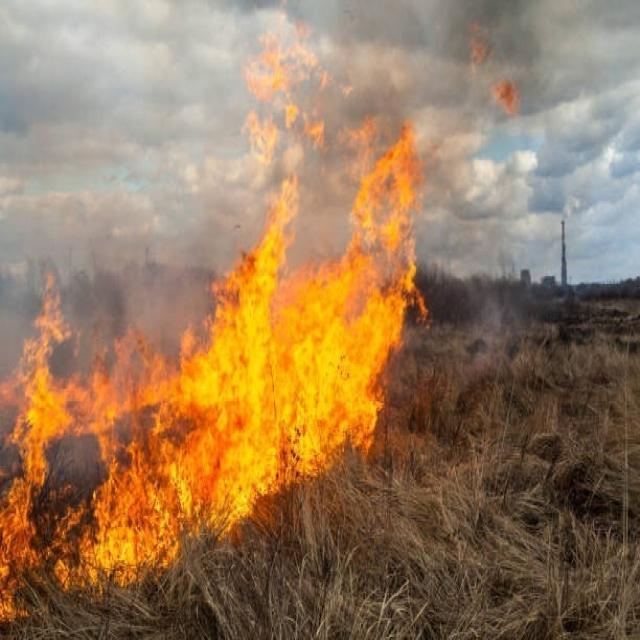Fire: (188, 42, 470, 479), (0, 278, 323, 640)
